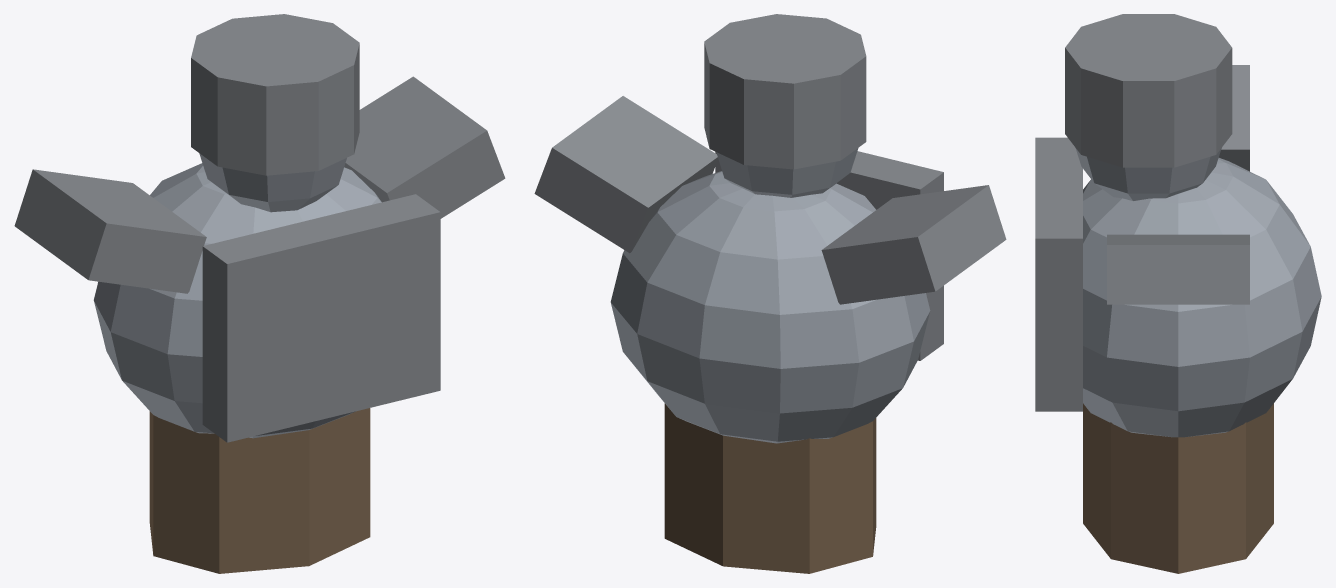
The model's file is brute.glb.
The picture shows the model from 3 angles, left to right: view 1: azimuth 30°, elevation 25°; view 2: azimuth 150°, elevation 25°; view 3: azimuth 270°, elevation 25°; orthographic projection. The views are drawn at different scales.
Parts seen in each view (by area): view 1: BodyMesh; view 2: BodyMesh; view 3: BodyMesh.
Part boxes in pixels (x1,y1,x2,y2): BodyMesh: (14, 14, 505, 573); BodyMesh: (534, 14, 1006, 573); BodyMesh: (1035, 14, 1321, 573).
Bounding box in the file's own units: 0.7821 × 0.88 × 0.48.
